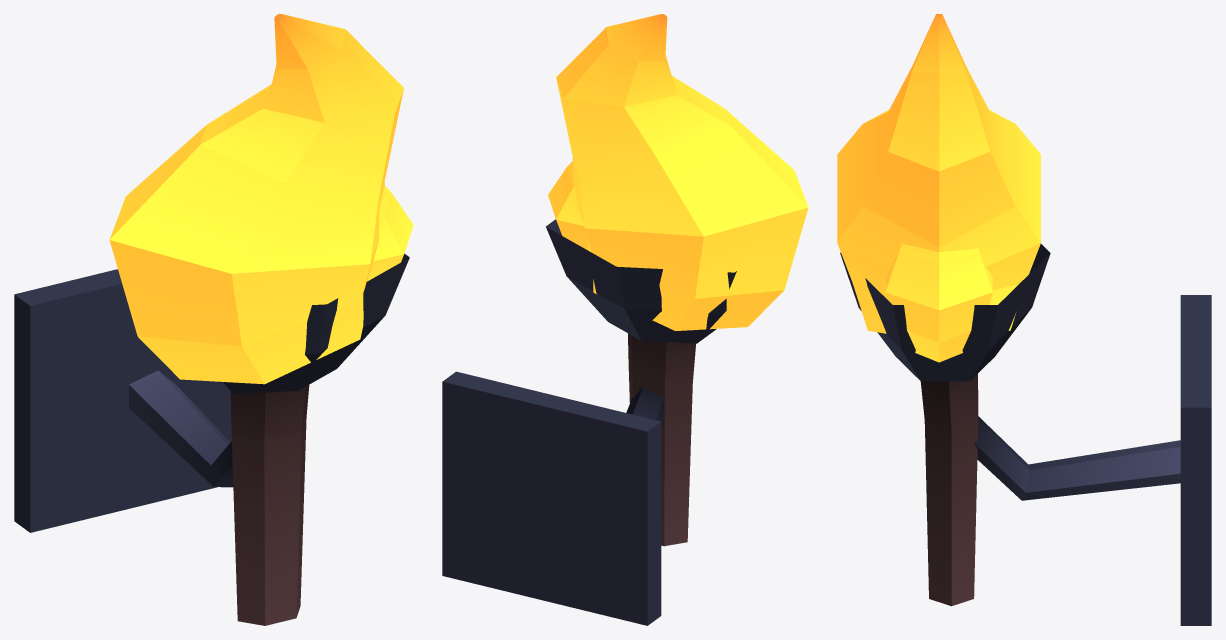
Rendered from torch_mounted.glb.
The picture shows the model from 3 angles, left to right: view 1: azimuth 30°, elevation 25°; view 2: azimuth 150°, elevation 25°; view 3: azimuth 270°, elevation 25°; orthographic projection. The views are drawn at different scales.
Parts seen in each view (by area): view 1: torch_mounted.001; view 2: torch_mounted.001; view 3: torch_mounted.001.
Boxes of the visible parts, x1,y1,x2,y2 form: torch_mounted.001: [14, 14, 413, 625]; torch_mounted.001: [442, 14, 808, 625]; torch_mounted.001: [837, 14, 1211, 625].
Bounding box in the file's own units: 0.56 × 1.06 × 0.62.
